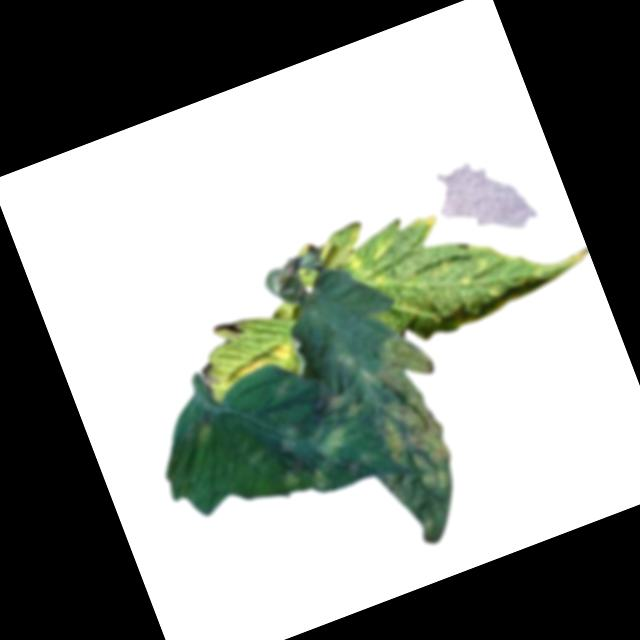Leaf_Mold: (324, 149, 596, 362), (334, 324, 493, 554), (251, 369, 385, 507), (211, 338, 301, 399)
